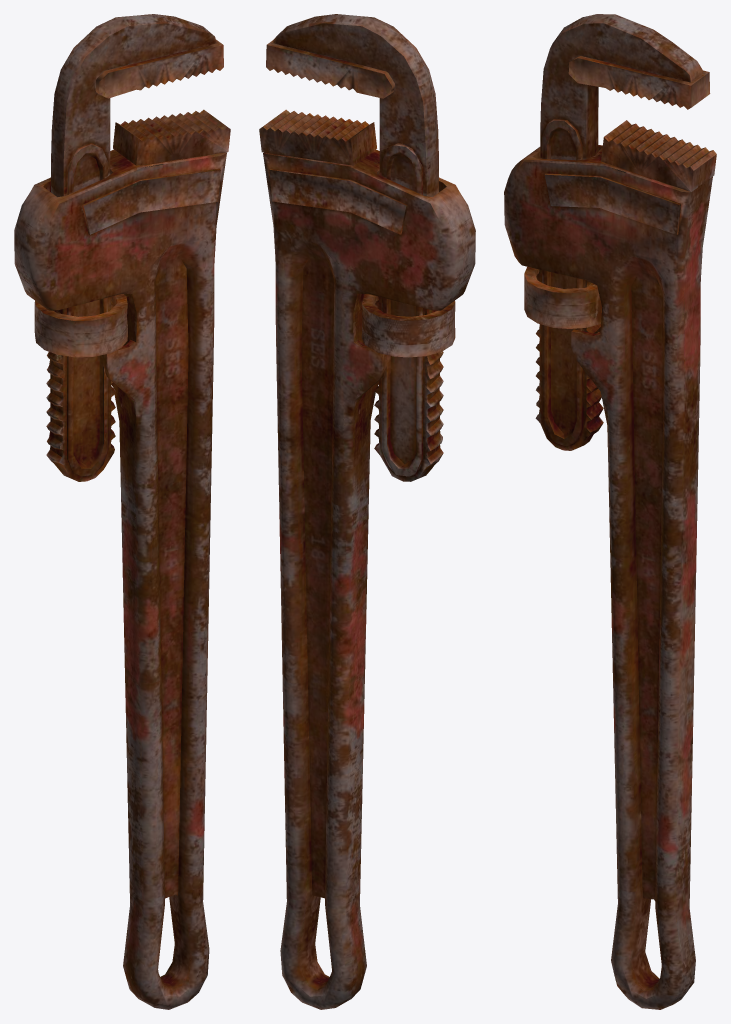
File: pipe_wrench.glb
The picture shows the model from 3 angles, left to right: view 1: azimuth 30°, elevation 25°; view 2: azimuth 150°, elevation 25°; view 3: azimuth 330°, elevation 25°; orthographic projection.
Parts seen in each view (by area): view 1: pipe_wrench; view 2: pipe_wrench; view 3: pipe_wrench.
Boxes of the visible parts, x1,y1,x2,y2 form: pipe_wrench: (14, 14, 230, 1009); pipe_wrench: (259, 14, 475, 1009); pipe_wrench: (504, 14, 716, 1009).
Size of what is drawn, in the model's own units: 0.0841 by 0.4052 by 0.0343.
Materials: 1 (1 with a texture image).
